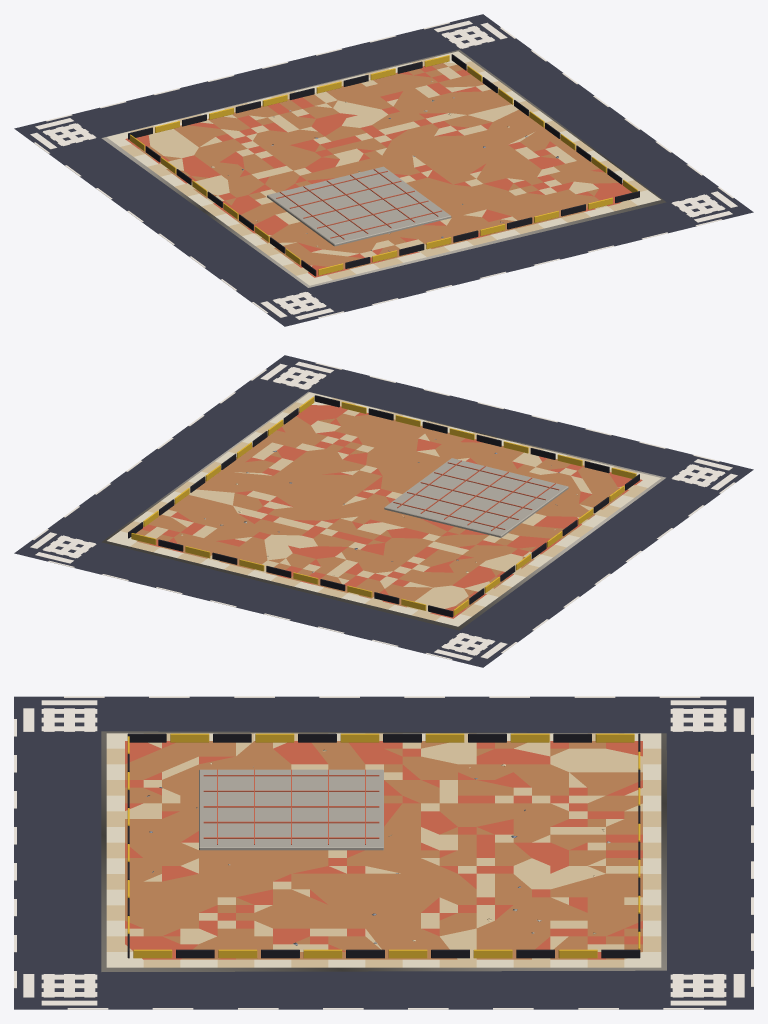
The model's file is tile_construction.glb.
3 renders of one model, top to bottom at view 1: azimuth 30°, elevation 25°; view 2: azimuth 150°, elevation 25°; view 3: azimuth 270°, elevation 25°, orthographic. The views are drawn at different scales.
Parts seen in each view (by area): view 1: tile_construction; view 2: tile_construction; view 3: tile_construction.
Boxes of the visible parts, bbox=[...] form: tile_construction: bbox=[14, 14, 753, 326]; tile_construction: bbox=[14, 355, 753, 667]; tile_construction: bbox=[14, 696, 753, 1009].
Size of the model in its own units: 40 by 0.669 by 40.
1 material, 1 textured.
